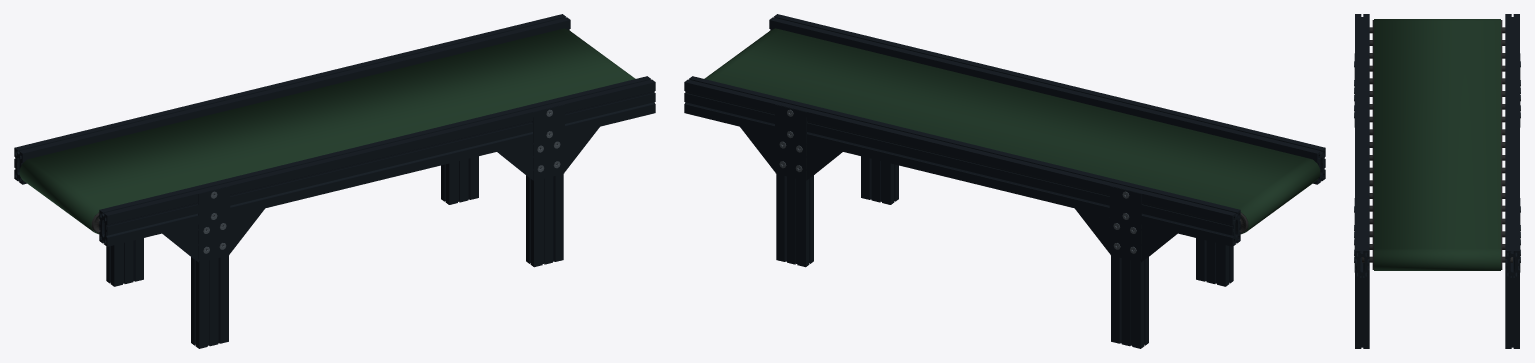
Rendered from Conveyor_Props.obj.
The picture shows the model from 3 angles, left to right: view 1: azimuth 30°, elevation 25°; view 2: azimuth 150°, elevation 25°; view 3: azimuth 270°, elevation 25°; orthographic projection. The views are drawn at different scales.
Visible parts, largest first — view 1: Plane, Reika, Reika.001, SupportDetails, Reika.002, Nails; view 2: Plane, Reika, Reika.001, SupportDetails, Reika.002, Nails; view 3: Plane, Reika, Reika.001, Reika.002, Circle.001, SupportDetails, Nails.
Part boxes in pixels (<box>): Plane: <box>19,28,635,234</box>; Reika: <box>59,25,611,235</box>; Reika.001: <box>106,156,563,348</box>; SupportDetails: <box>162,104,599,262</box>; Reika.002: <box>14,14,655,246</box>; Nails: <box>203,109,560,253</box>; Plane: <box>704,28,1320,234</box>; Reika: <box>728,25,1280,235</box>; Reika.001: <box>776,156,1233,348</box>; SupportDetails: <box>740,104,1177,262</box>; Reika.002: <box>684,14,1325,246</box>; Nails: <box>779,109,1136,253</box>; Plane: <box>1374,19,1500,270</box>; Reika: <box>1355,33,1519,234</box>; Reika.001: <box>1355,275,1519,348</box>; Reika.002: <box>1355,14,1519,278</box>; Circle.001: <box>1362,20,1512,269</box>; SupportDetails: <box>1354,53,1520,272</box>; Nails: <box>1354,61,1520,262</box>.
Size of the model in its own units: 14.95 by 4.01 by 4.41.
